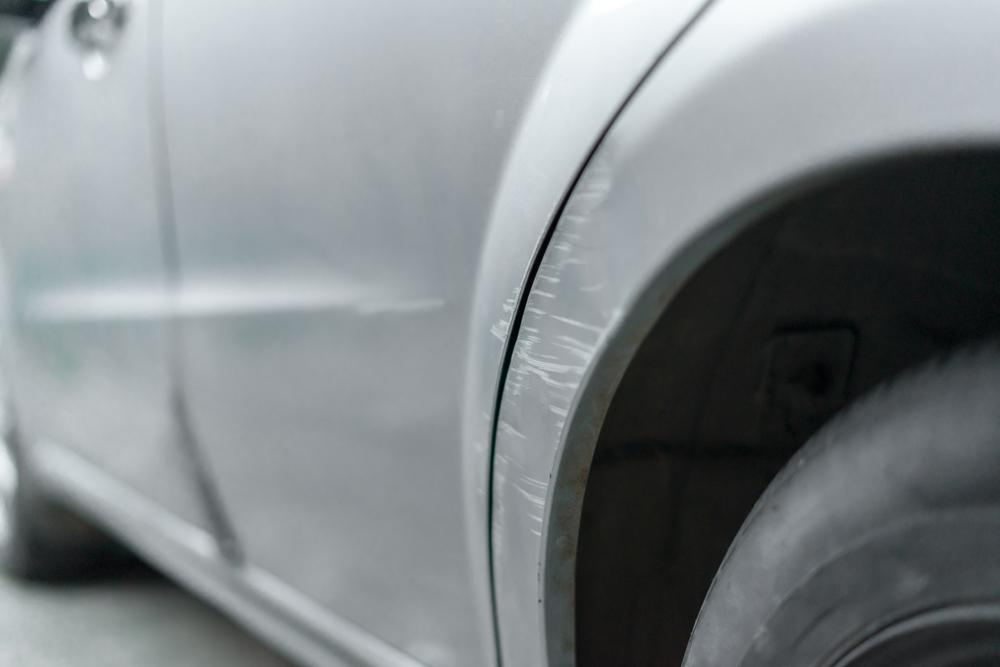scratch: (489, 152, 628, 550)
